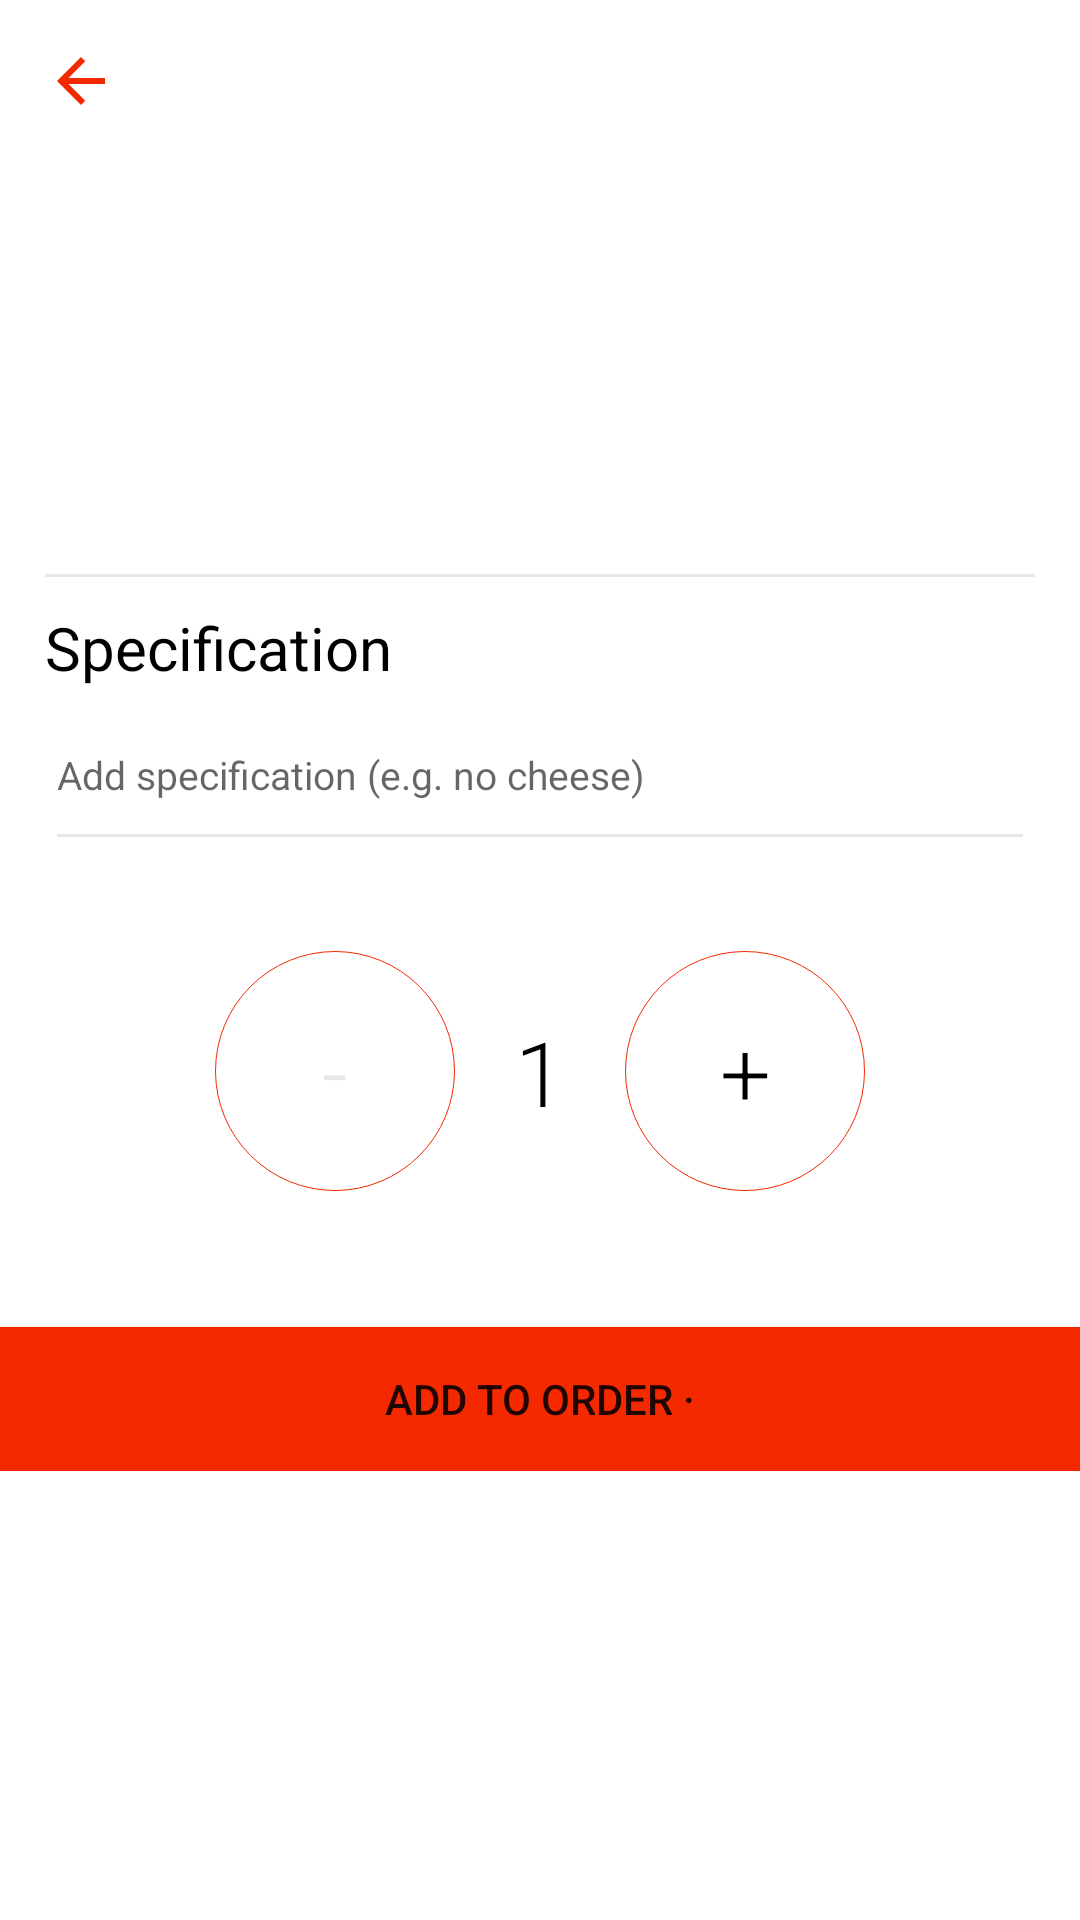

Icon bounding boxes for this 1080px×1920px phone screenshot, format (left=x1, top=y1, right=x2, bottom=y2):
arrow back: (left=57, top=57, right=105, bottom=105)
